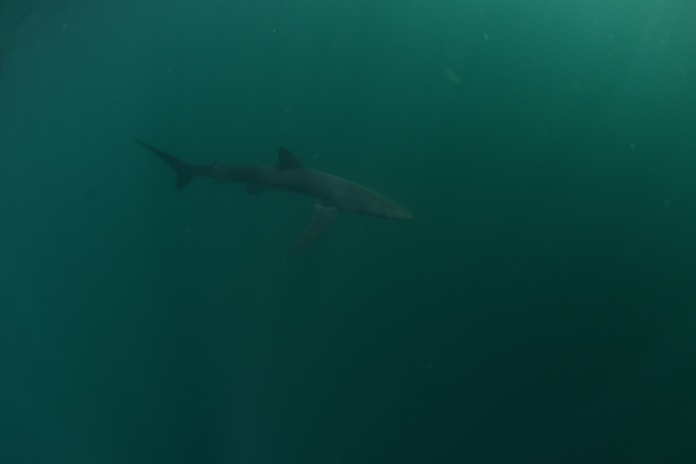Azul: (125, 127, 424, 237)
